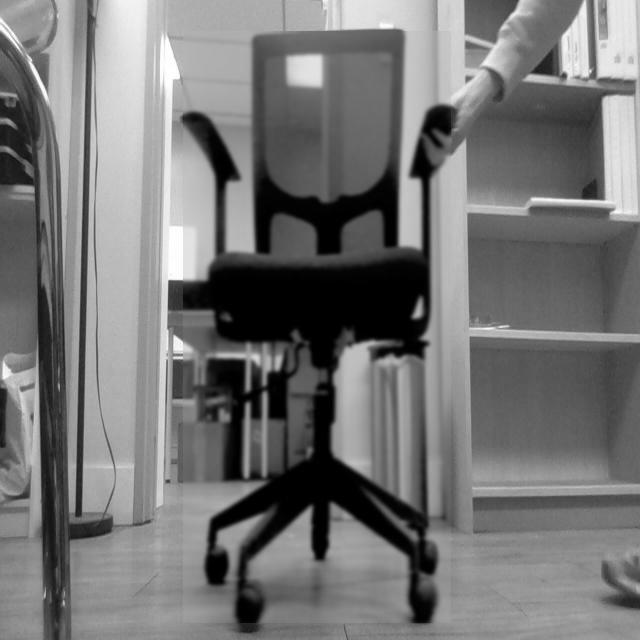chair: (184, 31, 452, 624)
